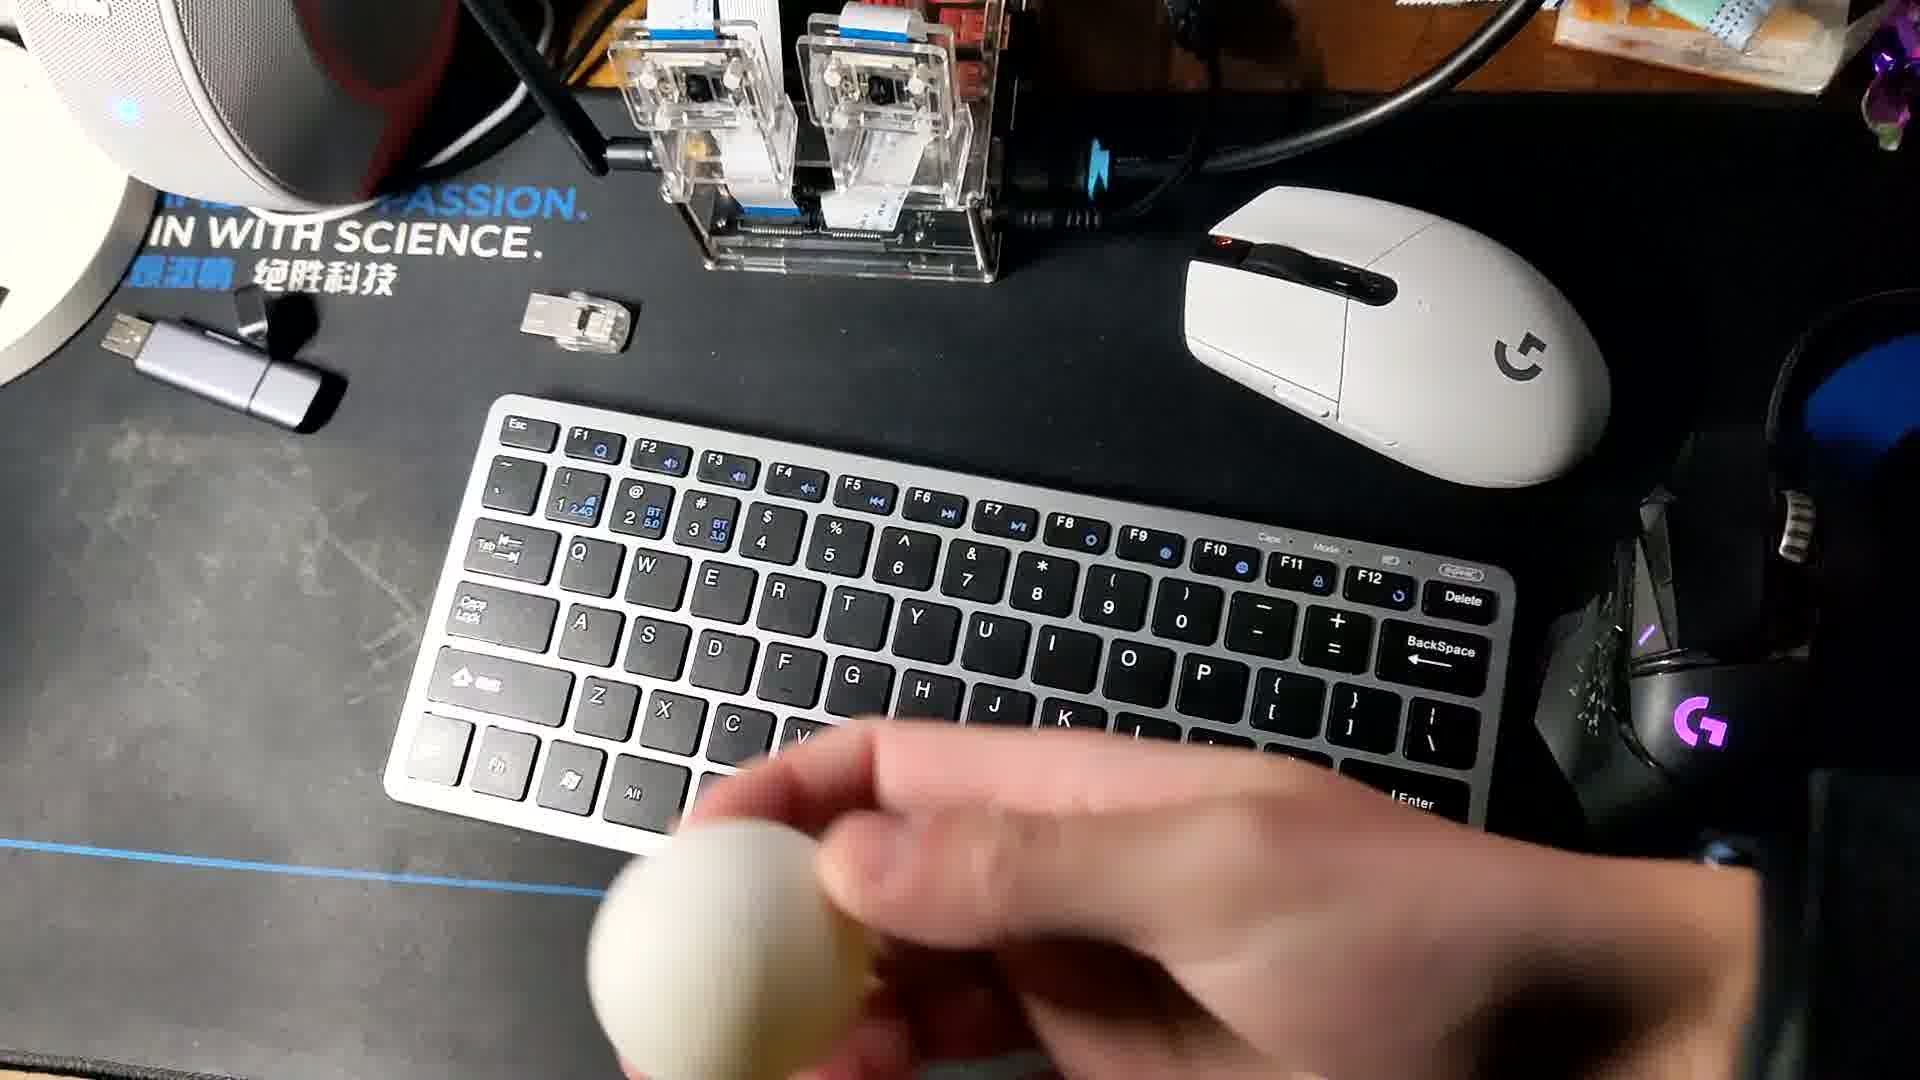Ball: (579, 820, 870, 1080)
